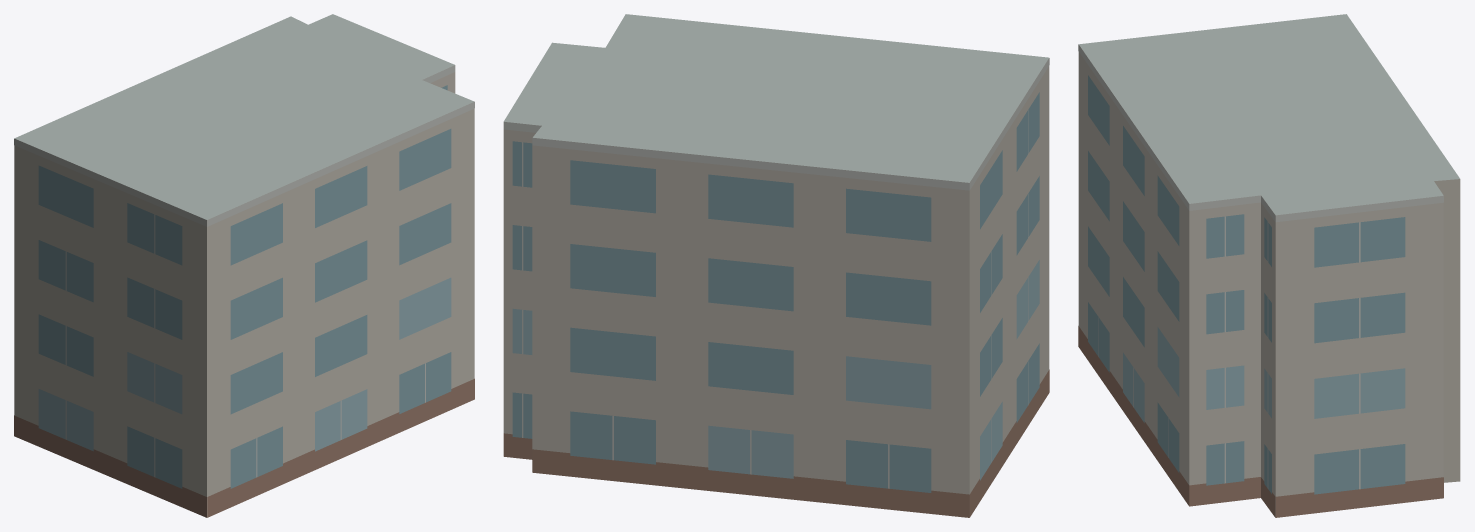
Rendered from survey-upis-32654759.glb.
The picture shows the model from 3 angles, left to right: view 1: azimuth 30°, elevation 25°; view 2: azimuth 150°, elevation 25°; view 3: azimuth 270°, elevation 25°; orthographic projection. The views are drawn at different scales.
Parts seen in each view (by area): view 1: survey-upis-32654759.tmp; view 2: survey-upis-32654759.tmp; view 3: survey-upis-32654759.tmp.
Part boxes in pixels (x1,y1,x2,y2): survey-upis-32654759.tmp: (14,14,474,517); survey-upis-32654759.tmp: (503,14,1049,517); survey-upis-32654759.tmp: (1078,14,1460,517).
Size of the model in its own units: 15.14 by 10.6 by 12.13.
